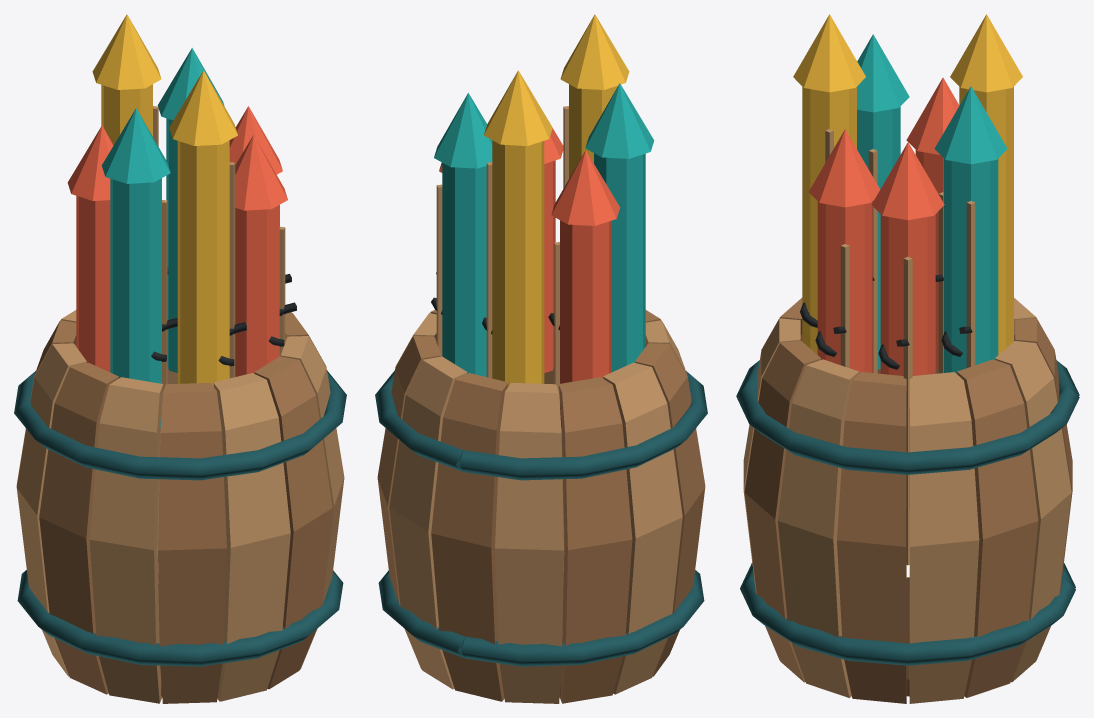
The model's file is firework-barrel.glb.
3 renders of one model, left to right at view 1: azimuth 30°, elevation 25°; view 2: azimuth 150°, elevation 25°; view 3: azimuth 270°, elevation 25°, orthographic. The views are drawn at different scales.
Parts seen in each view (by area): view 1: Wooden barrel stave.009, Wooden barrel stave.008, Wooden barrel stave.010, Wooden barrel stave.007, Colorful toy firework rocket.005, Wooden barrel stave.011, Colorful toy firework rocket.004, Barrel metal band.001, Barrel metal band, Colorful toy firework rocket.006, Wooden barrel stave.006, Colorful toy firework rocket.003 (+14 smaller); view 2: Wooden barrel stave.004, Wooden barrel stave.005, Wooden barrel stave.003, Wooden barrel stave.006, Colorful toy firework rocket.002, Wooden barrel stave.002, Colorful toy firework rocket.001, Barrel metal band.001, Colorful toy firework rocket.003, Barrel metal band, Colorful toy firework rocket.004, Wooden barrel stave.007 (+12 smaller); view 3: Wooden barrel stave, Wooden barrel stave.013, Wooden barrel stave.001, Wooden barrel stave.012, Colorful toy firework rocket.001, Wooden barrel stave.011, Wooden barrel stave.002, Barrel metal band.001, Barrel metal band, Colorful toy firework rocket.006, Colorful toy firework rocket, Colorful toy firework rocket.005 (+17 smaller).
Part boxes in pixels (x1,y1,x2,y2): Wooden barrel stave.009: [158, 383, 226, 703]; Wooden barrel stave.008: [89, 377, 163, 703]; Wooden barrel stave.010: [213, 373, 290, 701]; Wooden barrel stave.007: [39, 362, 118, 694]; Colorful toy firework rocket.005: [177, 140, 229, 386]; Wooden barrel stave.011: [254, 356, 332, 689]; Colorful toy firework rocket.004: [110, 178, 161, 428]; Barrel metal band.001: [14, 370, 346, 480]; Barrel metal band: [17, 570, 343, 666]; Colorful toy firework rocket.006: [235, 205, 279, 376]; Wooden barrel stave.006: [17, 343, 86, 676]; Colorful toy firework rocket.003: [76, 196, 110, 371]; Wooden barrel stave.004: [495, 383, 563, 703]; Wooden barrel stave.005: [558, 377, 632, 703]; Wooden barrel stave.003: [431, 373, 508, 701]; Wooden barrel stave.006: [603, 362, 682, 694]; Colorful toy firework rocket.002: [492, 140, 544, 386]; Wooden barrel stave.002: [389, 356, 467, 689]; Colorful toy firework rocket.001: [442, 163, 486, 376]; Barrel metal band.001: [375, 370, 707, 480]; Colorful toy firework rocket.003: [560, 220, 611, 428]; Barrel metal band: [378, 570, 704, 666]; Colorful toy firework rocket.004: [594, 153, 645, 371]; Wooden barrel stave.007: [635, 343, 704, 676]; Wooden barrel stave: [909, 372, 979, 703]; Wooden barrel stave.013: [837, 372, 906, 703]; Wooden barrel stave.001: [957, 359, 1038, 697]; Wooden barrel stave.012: [778, 359, 859, 697]; Colorful toy firework rocket.001: [943, 158, 998, 374]; Wooden barrel stave.011: [744, 341, 821, 682]; Wooden barrel stave.002: [995, 341, 1071, 682]; Barrel metal band.001: [736, 360, 1079, 474]; Barrel metal band: [740, 562, 1075, 665]; Colorful toy firework rocket.006: [817, 201, 872, 374]; Colorful toy firework rocket: [880, 214, 935, 375]; Colorful toy firework rocket.005: [802, 87, 856, 354].
Size of the model in its own units: 0.94 by 1.89 by 0.9393.
